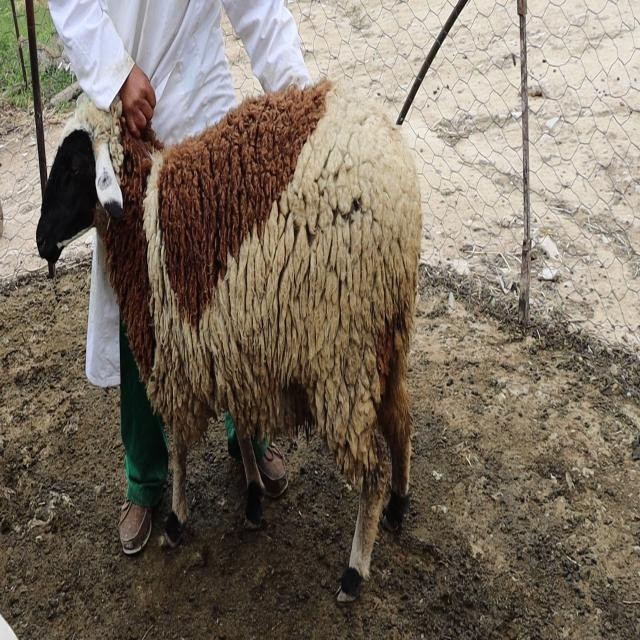Score_5: (36, 80, 422, 602)
